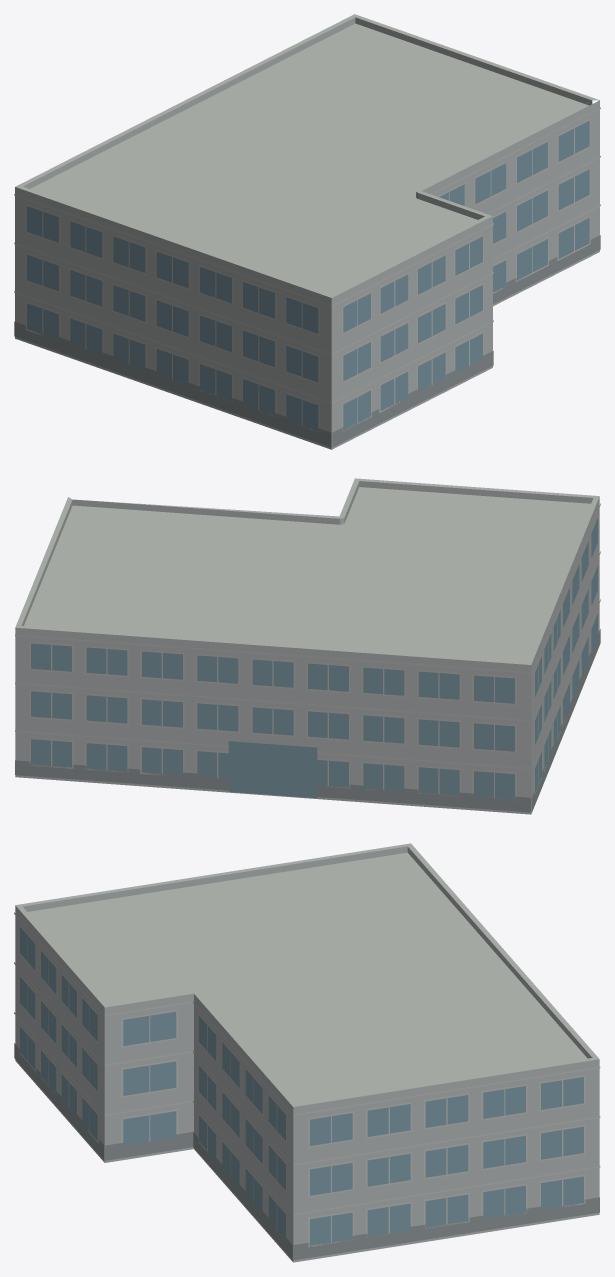
The model's file is public-71e29e6f-0797-4fad-9f15-7e5ecff8b072.glb.
3 renders of one model, top to bottom at view 1: azimuth 30°, elevation 25°; view 2: azimuth 150°, elevation 25°; view 3: azimuth 270°, elevation 25°, orthographic. The views are drawn at different scales.
Parts seen in each view (by area): view 1: public-71e29e6f-0797-4fad-9f15-7e5ecff8b072; view 2: public-71e29e6f-0797-4fad-9f15-7e5ecff8b072; view 3: public-71e29e6f-0797-4fad-9f15-7e5ecff8b072.
Boxes of the visible parts, <box> form: public-71e29e6f-0797-4fad-9f15-7e5ecff8b072: <box>14,14,600,449</box>; public-71e29e6f-0797-4fad-9f15-7e5ecff8b072: <box>15,478,600,814</box>; public-71e29e6f-0797-4fad-9f15-7e5ecff8b072: <box>14,843,600,1262</box>.
Bounding box in the file's own units: 33.42 × 9.15 × 31.3.
